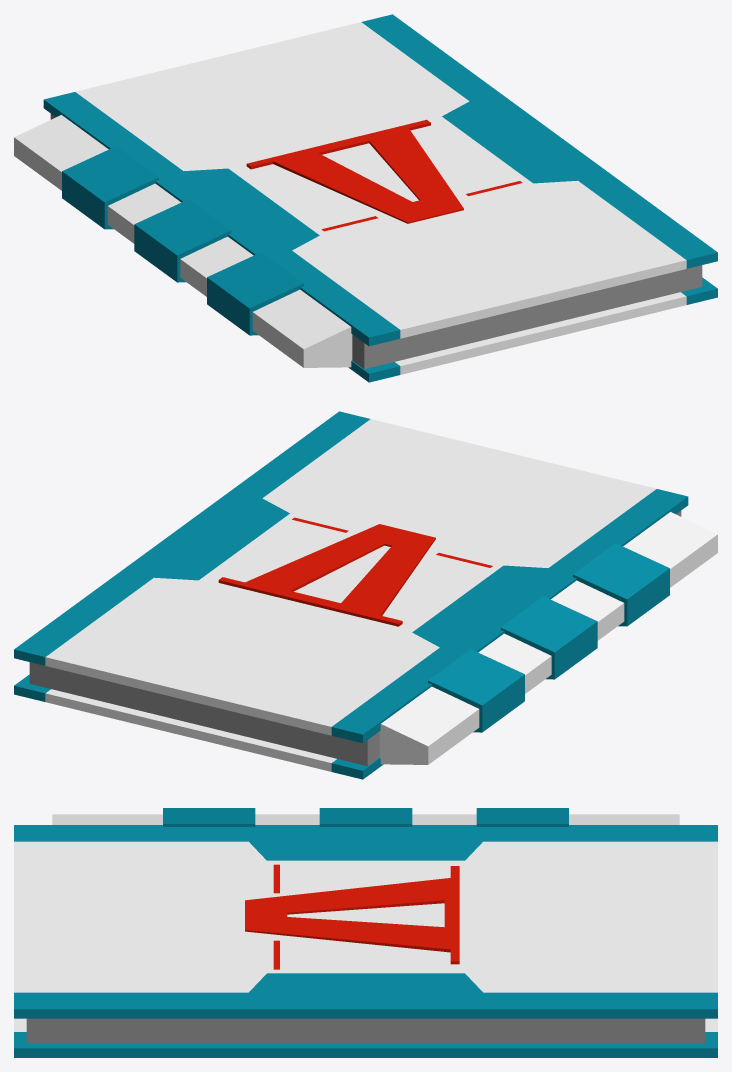
The model's file is Manual.fbx.
3 renders of one model, top to bottom at view 1: azimuth 30°, elevation 25°; view 2: azimuth 150°, elevation 25°; view 3: azimuth 270°, elevation 25°, orthographic. The views are drawn at different scales.
Visible parts, largest first — view 1: Cube, Cube.003, V, Manual, Cube.002; view 2: Cube, Cube.003, V, Manual, Cube.002; view 3: Cube, Manual, Cube.002, V, Cube.003.
Boxes of the visible parts, x1,y1,x2,y2 form: Cube: (43, 14, 717, 346); Cube.003: (14, 115, 352, 367); V: (246, 119, 463, 223); Manual: (50, 114, 702, 369); Cube.002: (348, 277, 717, 382); Cube: (14, 411, 688, 743); Cube.003: (379, 512, 717, 764); V: (218, 524, 435, 626); Manual: (29, 511, 681, 766); Cube.002: (14, 674, 383, 779); Cube: (14, 825, 717, 1018); Manual: (26, 1018, 705, 1043); Cube.002: (14, 1018, 717, 1057); V: (245, 866, 459, 964); Cube.003: (52, 808, 679, 826).
Bounding box in the file's own units: 589 × 71.39 × 831.
